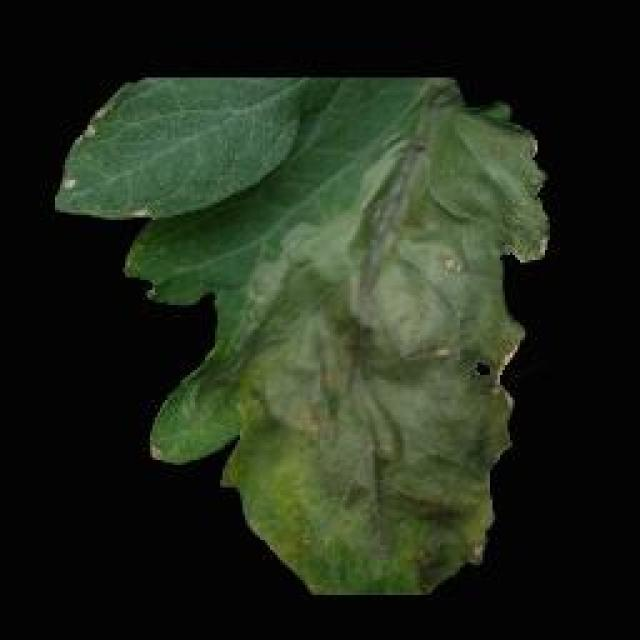Tomato Late Blight: (248, 127, 548, 598)
